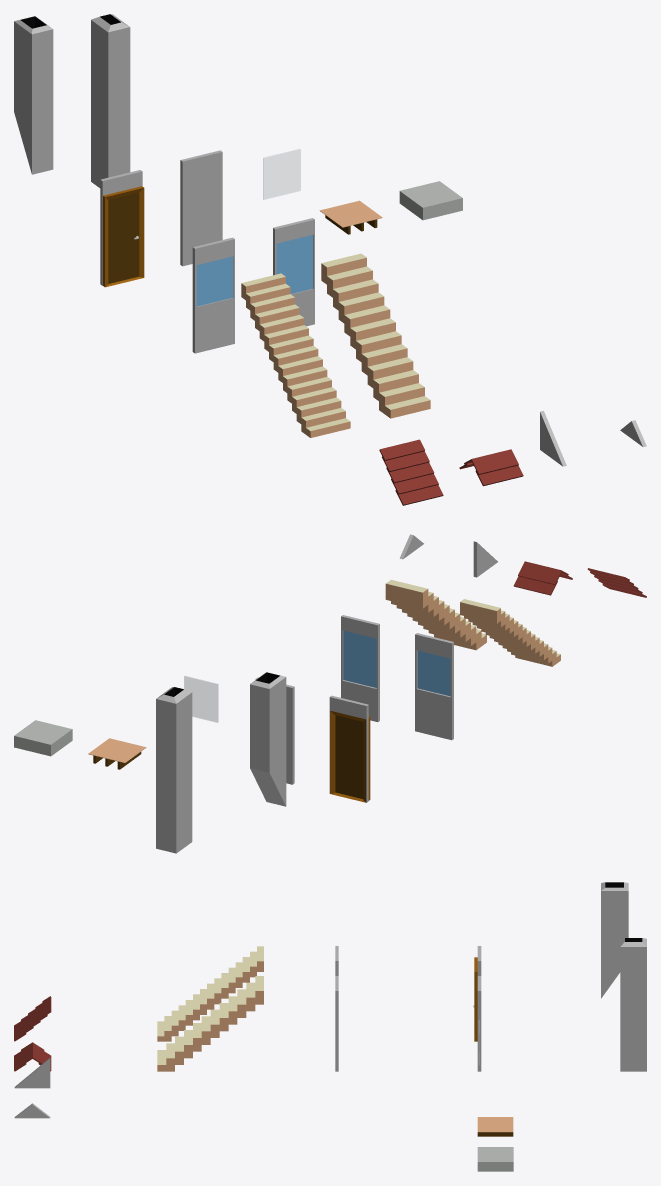
File: low_poly_house_3.glb
The picture shows the model from 3 angles, top to bottom: view 1: azimuth 30°, elevation 25°; view 2: azimuth 150°, elevation 25°; view 3: azimuth 270°, elevation 25°; orthographic projection. The views are drawn at different scales.
Parts seen in each view (by area): view 1: stairs_21_25, stairs_17_20, chimney_tall, chimney, wall, window_medium_medium, roof_slope, door, window_glass_2, floor_concrete, glass, window_glass (+6 smaller); view 2: chimney_tall, chimney, stairs_21_25, stairs_17_20, window_medium_medium, door, window_medium_tall, window_glass_2, floor_concrete, window_glass, door_frame, glass (+6 smaller); view 3: chimney_tall, stairs_21_25, stairs_17_20, chimney, floor_concrete, roof_slope, roof_slope_wall, roof_ridge_1, floor_wooden, wall.
Part boxes in pixels (x1=…): stairs_21_25: x1=321, y1=253, x2=430, y2=418; stairs_17_20: x1=241, y1=273, x2=350, y2=437; chimney_tall: x1=91, y1=14, x2=130, y2=187; chimney: x1=14, y1=16, x2=53, y2=174; wall: x1=180, y1=150, x2=222, y2=266; window_medium_medium: x1=192, y1=237, x2=234, y2=353; roof_slope: x1=379, y1=439, x2=443, y2=505; door: x1=108, y1=192, x2=138, y2=283; window_glass_2: x1=276, y1=235, x2=312, y2=293; floor_concrete: x1=399, y1=181, x2=462, y2=220; glass: x1=263, y1=149, x2=300, y2=199; window_glass: x1=196, y1=256, x2=232, y2=306; chimney_tall: x1=156, y1=687, x2=192, y2=853; chimney: x1=250, y1=672, x2=286, y2=806; stairs_21_25: x1=385, y1=579, x2=486, y2=650; stairs_17_20: x1=460, y1=599, x2=560, y2=666; window_medium_medium: x1=415, y1=633, x2=453, y2=740; door: x1=335, y1=715, x2=363, y2=798; window_medium_tall: x1=341, y1=615, x2=379, y2=721; window_glass_2: x1=343, y1=630, x2=376, y2=687; floor_concrete: x1=14, y1=720, x2=72, y2=756; window_glass: x1=417, y1=650, x2=450, y2=696; door_frame: x1=330, y1=710, x2=370, y2=802; glass: x1=184, y1=676, x2=218, y2=722; chimney_tall: x1=620, y1=938, x2=646, y2=1071; stairs_21_25: x1=157, y1=976, x2=263, y2=1071; stairs_17_20: x1=157, y1=946, x2=263, y2=1041; chimney: x1=601, y1=882, x2=628, y2=998; floor_concrete: x1=477, y1=1147, x2=513, y2=1171; roof_slope: x1=14, y1=996, x2=51, y2=1041; roof_slope_wall: x1=14, y1=1058, x2=50, y2=1088; roof_ridge_1: x1=14, y1=1042, x2=51, y2=1071; floor_wooden: x1=477, y1=1117, x2=513, y2=1132; wall: x1=477, y1=976, x2=481, y2=1071.
Size of the model in its own units: 9 by 4.92 by 17.77.
